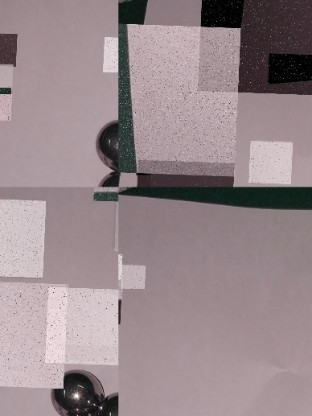ironball: (118, 23, 241, 175), (199, 0, 311, 94), (0, 280, 70, 387), (47, 285, 118, 363), (0, 197, 47, 276), (137, 159, 236, 187), (56, 366, 107, 416), (251, 139, 294, 182), (97, 118, 120, 170), (0, 32, 19, 66), (122, 263, 146, 288), (89, 170, 121, 188), (105, 35, 118, 71), (0, 87, 14, 120), (0, 63, 15, 92), (102, 389, 119, 414), (118, 278, 124, 300)
